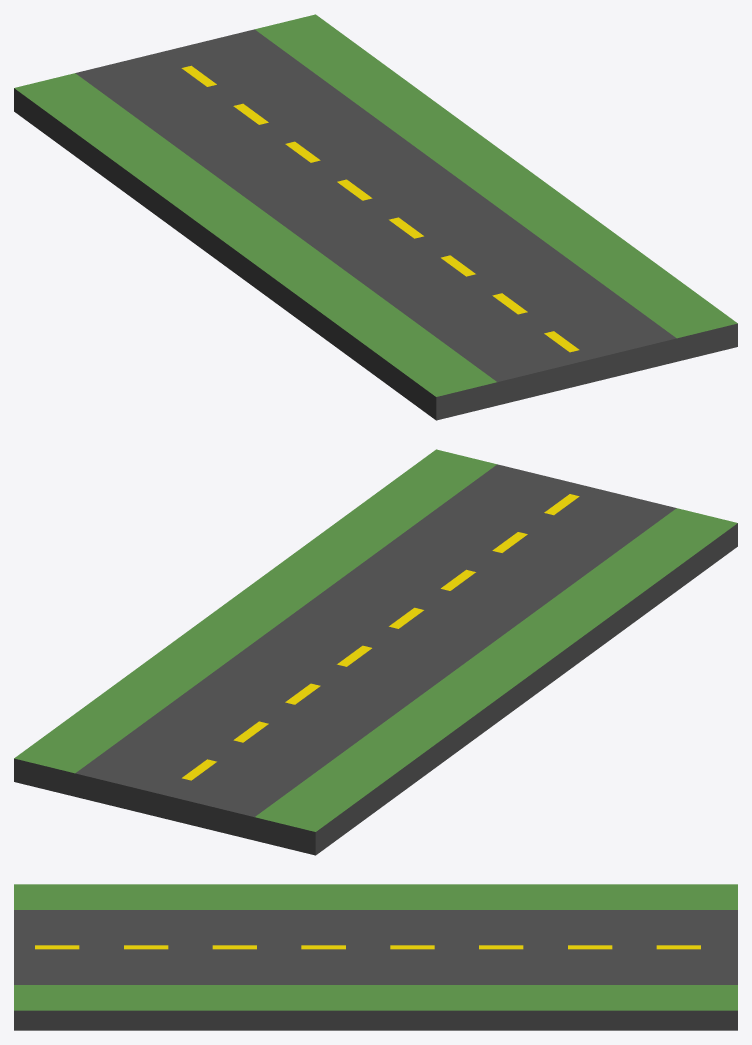
Rendered from street1.fbx.
The picture shows the model from 3 angles, top to bottom: view 1: azimuth 30°, elevation 25°; view 2: azimuth 150°, elevation 25°; view 3: azimuth 270°, elevation 25°; orthographic projection. The views are drawn at different scales.
Parts seen in each view (by area): view 1: Street1; view 2: Street1; view 3: Street1.
Part boxes in pixels (box(x1,y1,x2,y2)): Street1: box(14, 14, 737, 420); Street1: box(14, 449, 737, 855); Street1: box(14, 884, 737, 1030).
Size of the model in its own units: 1346 by 100 by 3261.
